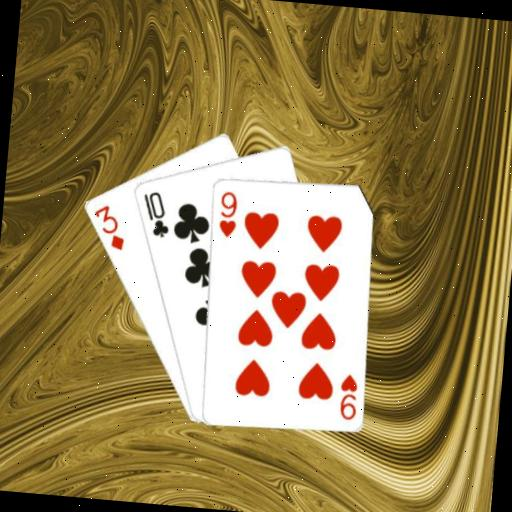10C: (137, 187, 174, 240)
3D: (88, 201, 129, 253)
9H: (214, 188, 240, 240), (334, 370, 360, 422)
